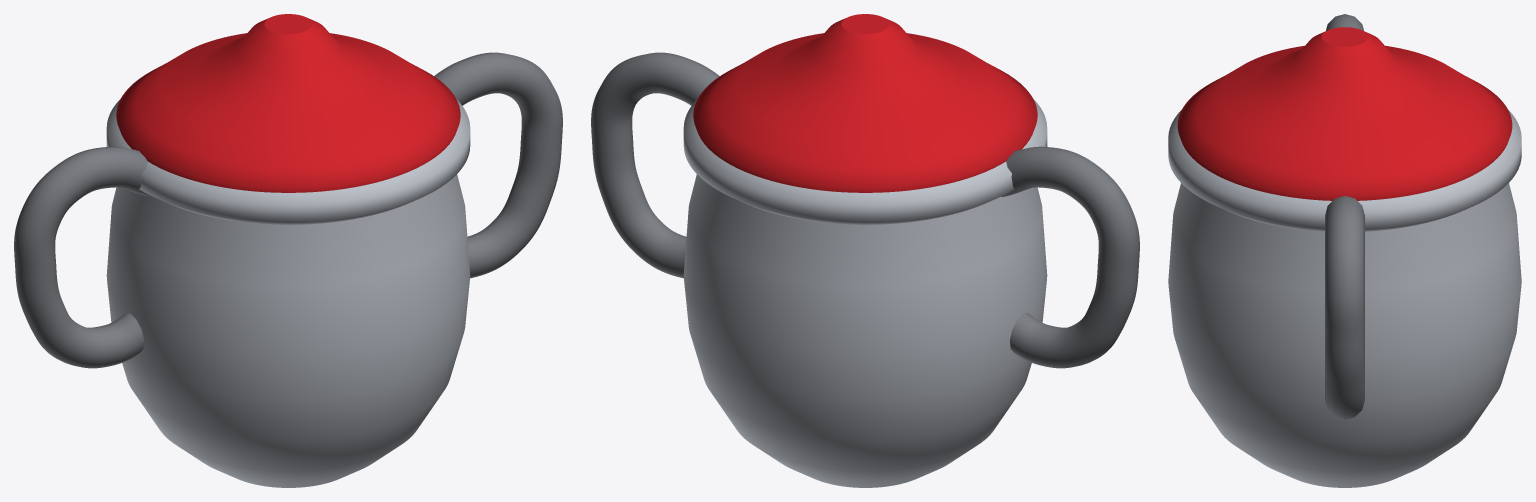
File: CastleSpellJar.fbx
3 renders of one model, left to right at view 1: azimuth 30°, elevation 25°; view 2: azimuth 150°, elevation 25°; view 3: azimuth 270°, elevation 25°, orthographic. The views are drawn at different scales.
Parts seen in each view (by area): view 1: Silver urn, Red lid, Left handle, Right handle, Shoulder rim; view 2: Silver urn, Red lid, Left handle, Right handle, Shoulder rim; view 3: Silver urn, Red lid, Shoulder rim, Right handle, Left handle.
Part boxes in pixels (x1,y1,x2,y2): Silver urn: [106, 174, 470, 487]; Red lid: [116, 14, 460, 192]; Left handle: [14, 146, 152, 368]; Right handle: [434, 52, 562, 278]; Shoulder rim: [106, 99, 470, 224]; Silver urn: [683, 174, 1047, 487]; Red lid: [693, 14, 1037, 192]; Left handle: [1001, 146, 1139, 368]; Right handle: [591, 52, 719, 278]; Shoulder rim: [683, 99, 1047, 224]; Silver urn: [1168, 183, 1521, 487]; Red lid: [1177, 27, 1512, 200]; Shoulder rim: [1168, 110, 1521, 231]; Right handle: [1325, 196, 1364, 419]; Left handle: [1326, 14, 1363, 30].
Size of the model in its own units: 131 by 100 by 76.
